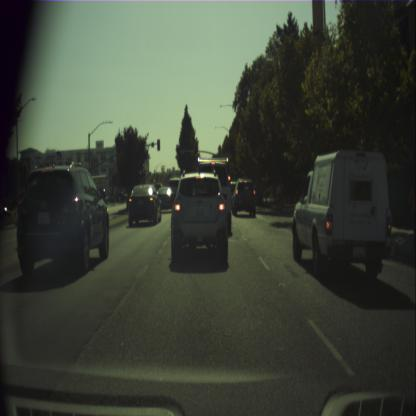Green: (194, 147, 197, 157)
off: (157, 138, 160, 150)
